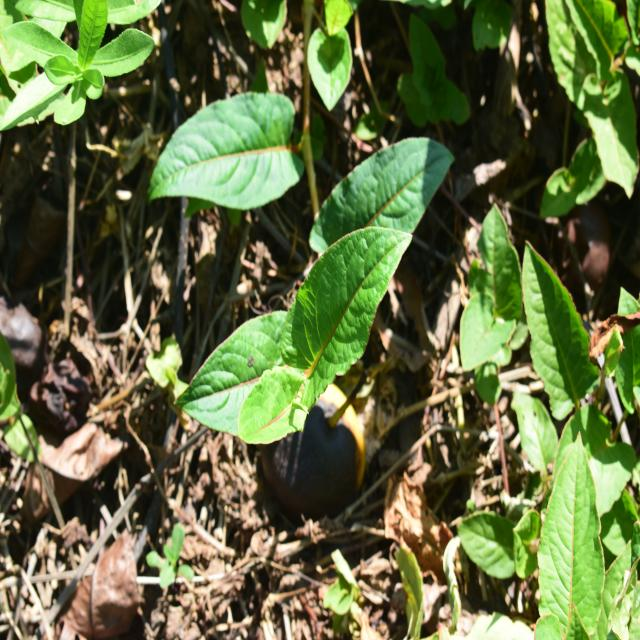Chinese_knotweed: (168, 78, 420, 434)
